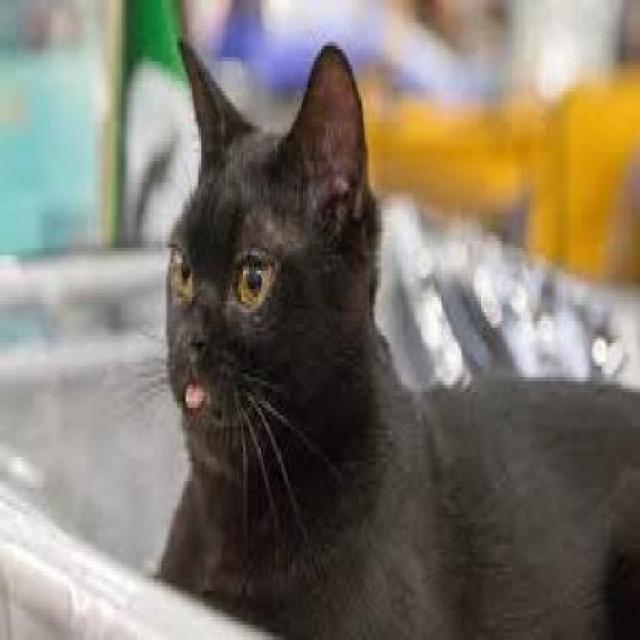animals: (156, 27, 638, 636)
